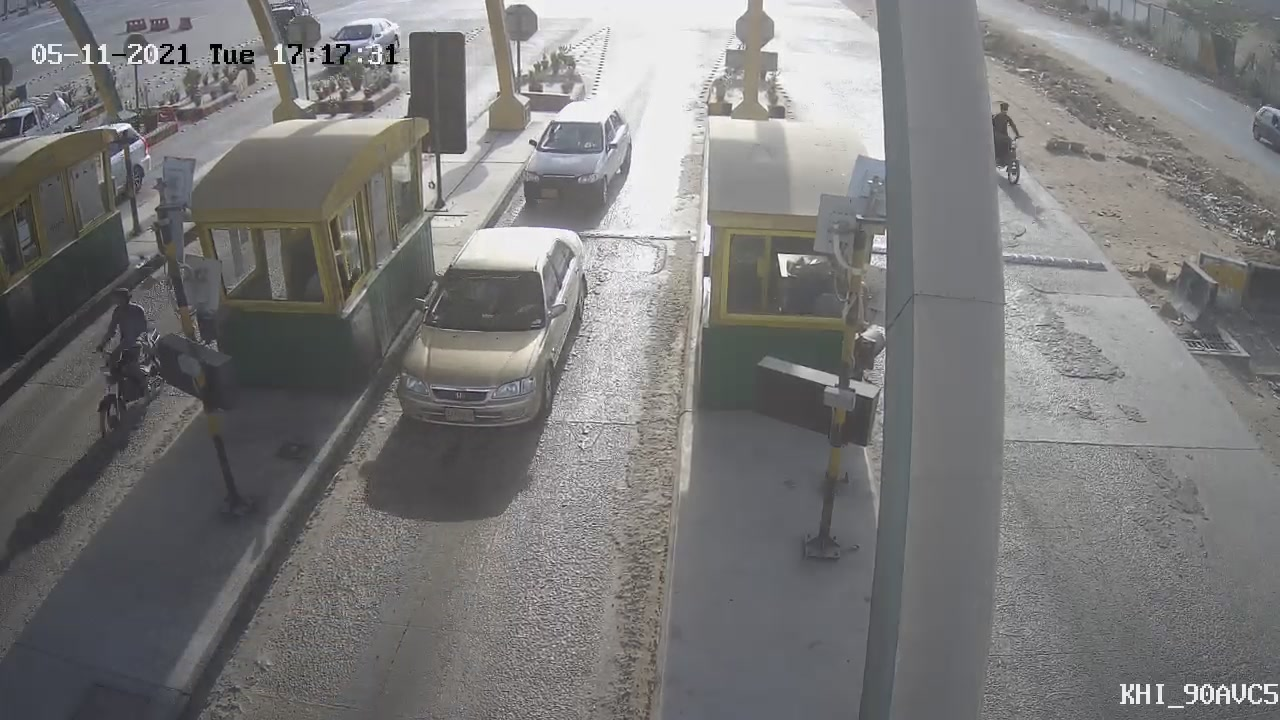F1: (370, 208, 605, 457), (503, 90, 648, 221)
